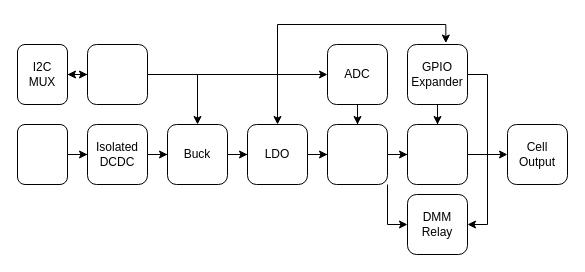
Image size: 585x272. Some labels were removed from this diagram. The shapes that lost their labels are listed below. From the top down, each one's centre as x and y in pixels, then its label:
At pixel 117 74: "I2C Isolator".
At pixel 42 154: "12V".
At pixel 357 154: "Current Shunt".
At pixel 437 154: "Output Relay".
